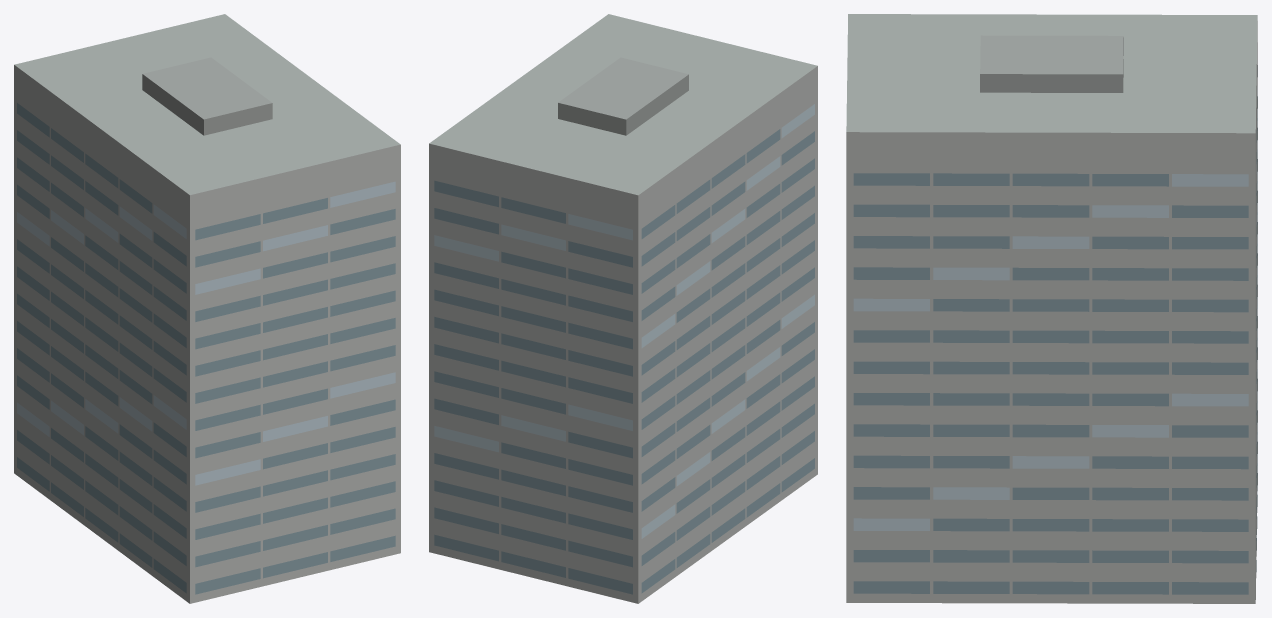
The model's file is named-apt-9141ffec-530d-4214-9a65-bb3761c10752.glb.
3 views of the same model, side by side, from view 1: azimuth 30°, elevation 25°; view 2: azimuth 150°, elevation 25°; view 3: azimuth 270°, elevation 25° (orthographic). The views are drawn at different scales.
Visible parts, largest first — view 1: named-apt-9141ffec-530d-4214-9a65-bb3761c10752; view 2: named-apt-9141ffec-530d-4214-9a65-bb3761c10752; view 3: named-apt-9141ffec-530d-4214-9a65-bb3761c10752.
Boxes of the visible parts, x1,y1,x2,y2 form: named-apt-9141ffec-530d-4214-9a65-bb3761c10752: (14, 14, 400, 603); named-apt-9141ffec-530d-4214-9a65-bb3761c10752: (429, 14, 817, 603); named-apt-9141ffec-530d-4214-9a65-bb3761c10752: (846, 14, 1257, 603).
Size of the model in its own units: 32.99 by 63 by 48.05.
